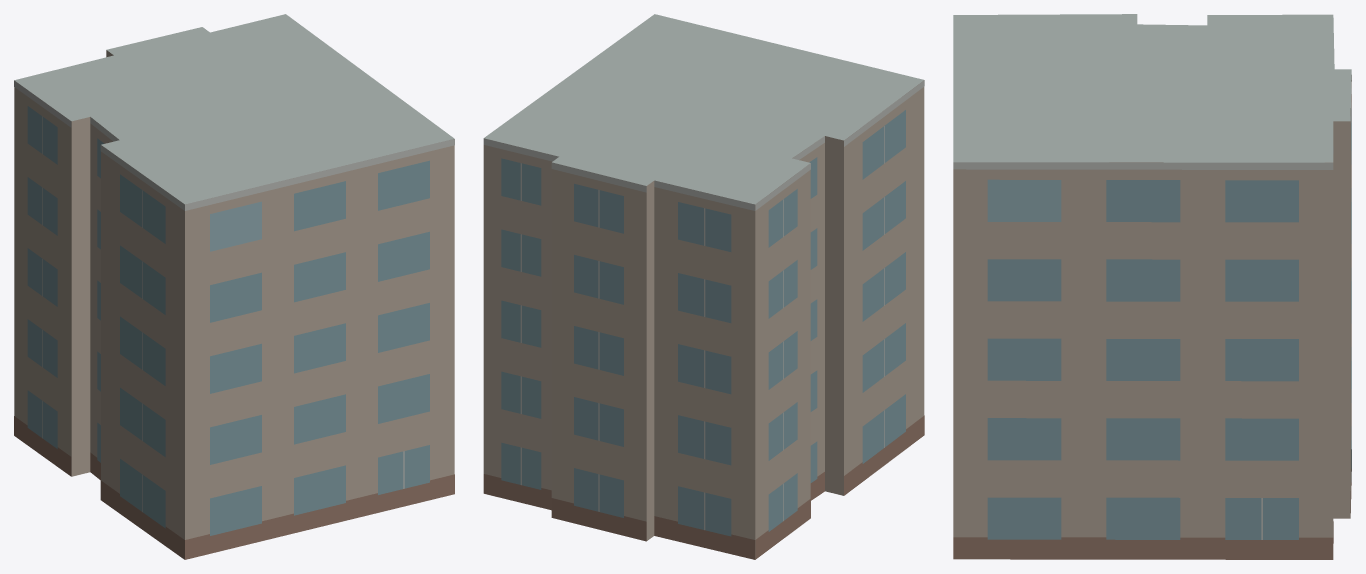
Rendered from survey-upis-32631933.glb.
3 renders of one model, left to right at view 1: azimuth 30°, elevation 25°; view 2: azimuth 150°, elevation 25°; view 3: azimuth 270°, elevation 25°, orthographic. The views are drawn at different scales.
Parts seen in each view (by area): view 1: survey-upis-32631933.tmp; view 2: survey-upis-32631933.tmp; view 3: survey-upis-32631933.tmp.
Boxes of the visible parts, x1,y1,x2,y2 form: survey-upis-32631933.tmp: (14, 14, 454, 559); survey-upis-32631933.tmp: (483, 14, 924, 559); survey-upis-32631933.tmp: (953, 14, 1351, 559).
Bounding box in the file's own units: 10.61 × 13.2 × 12.02.
